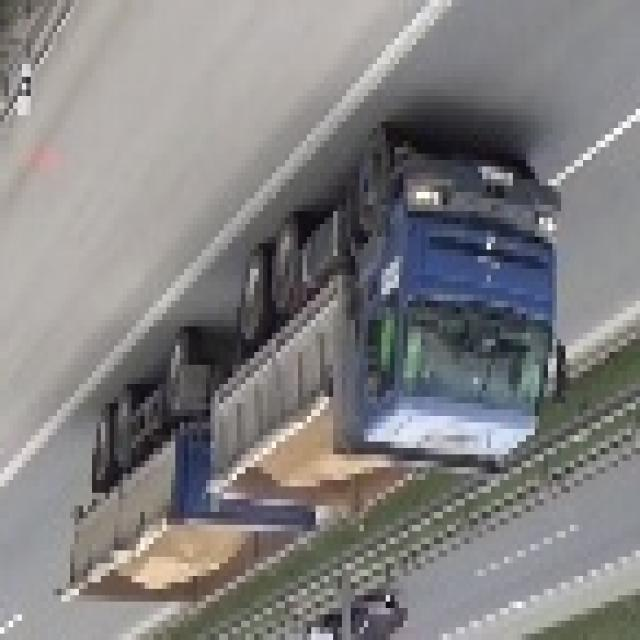truck: (70, 135, 574, 614)
